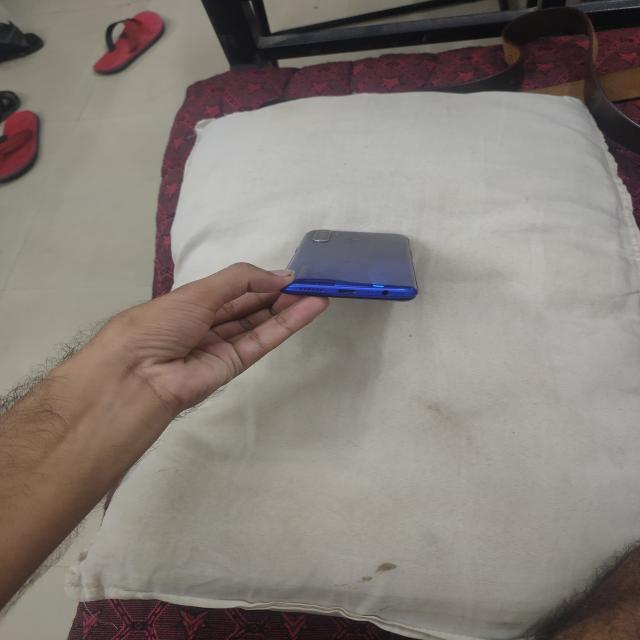Phone: (262, 220, 456, 334)
